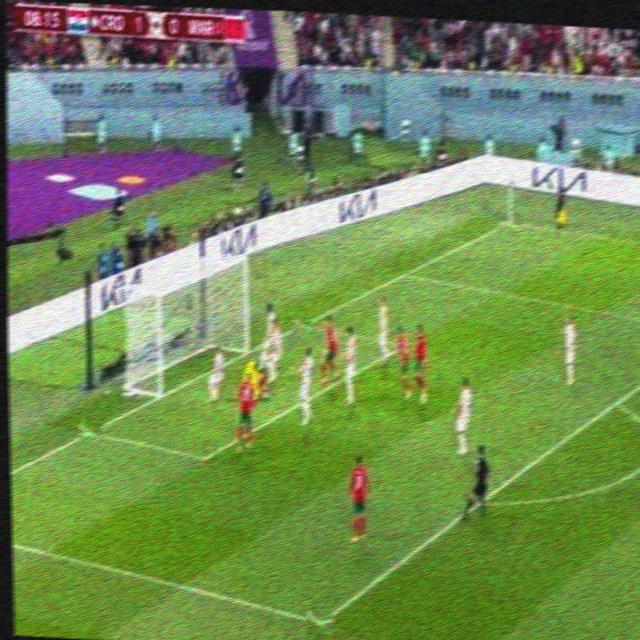bigarea_bottom_inner: (305, 603, 333, 639)
bigarea_top_outter: (394, 262, 412, 284)
corner: (498, 212, 520, 231)
smallarea_bottom_inner: (191, 441, 216, 474)
smallarea_bottom_outter: (77, 417, 102, 445)
smallarea_top_outter: (292, 310, 312, 333)
top_arc_area_intersection: (607, 389, 625, 412)
